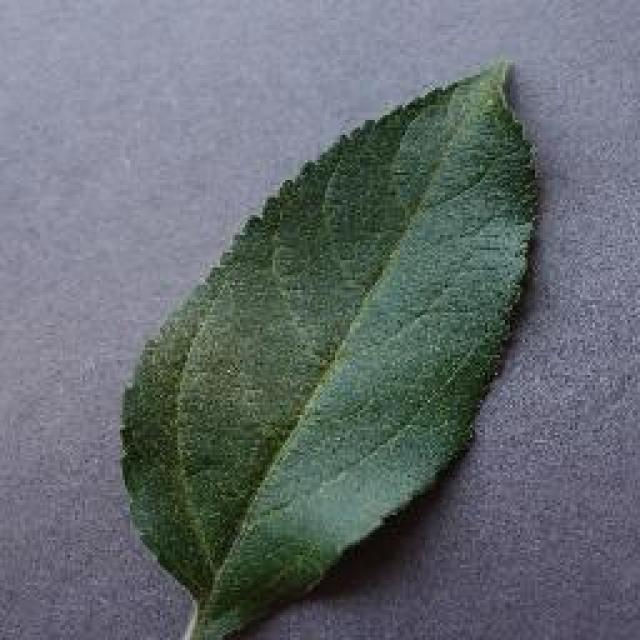apple healthy: (115, 55, 543, 637)
